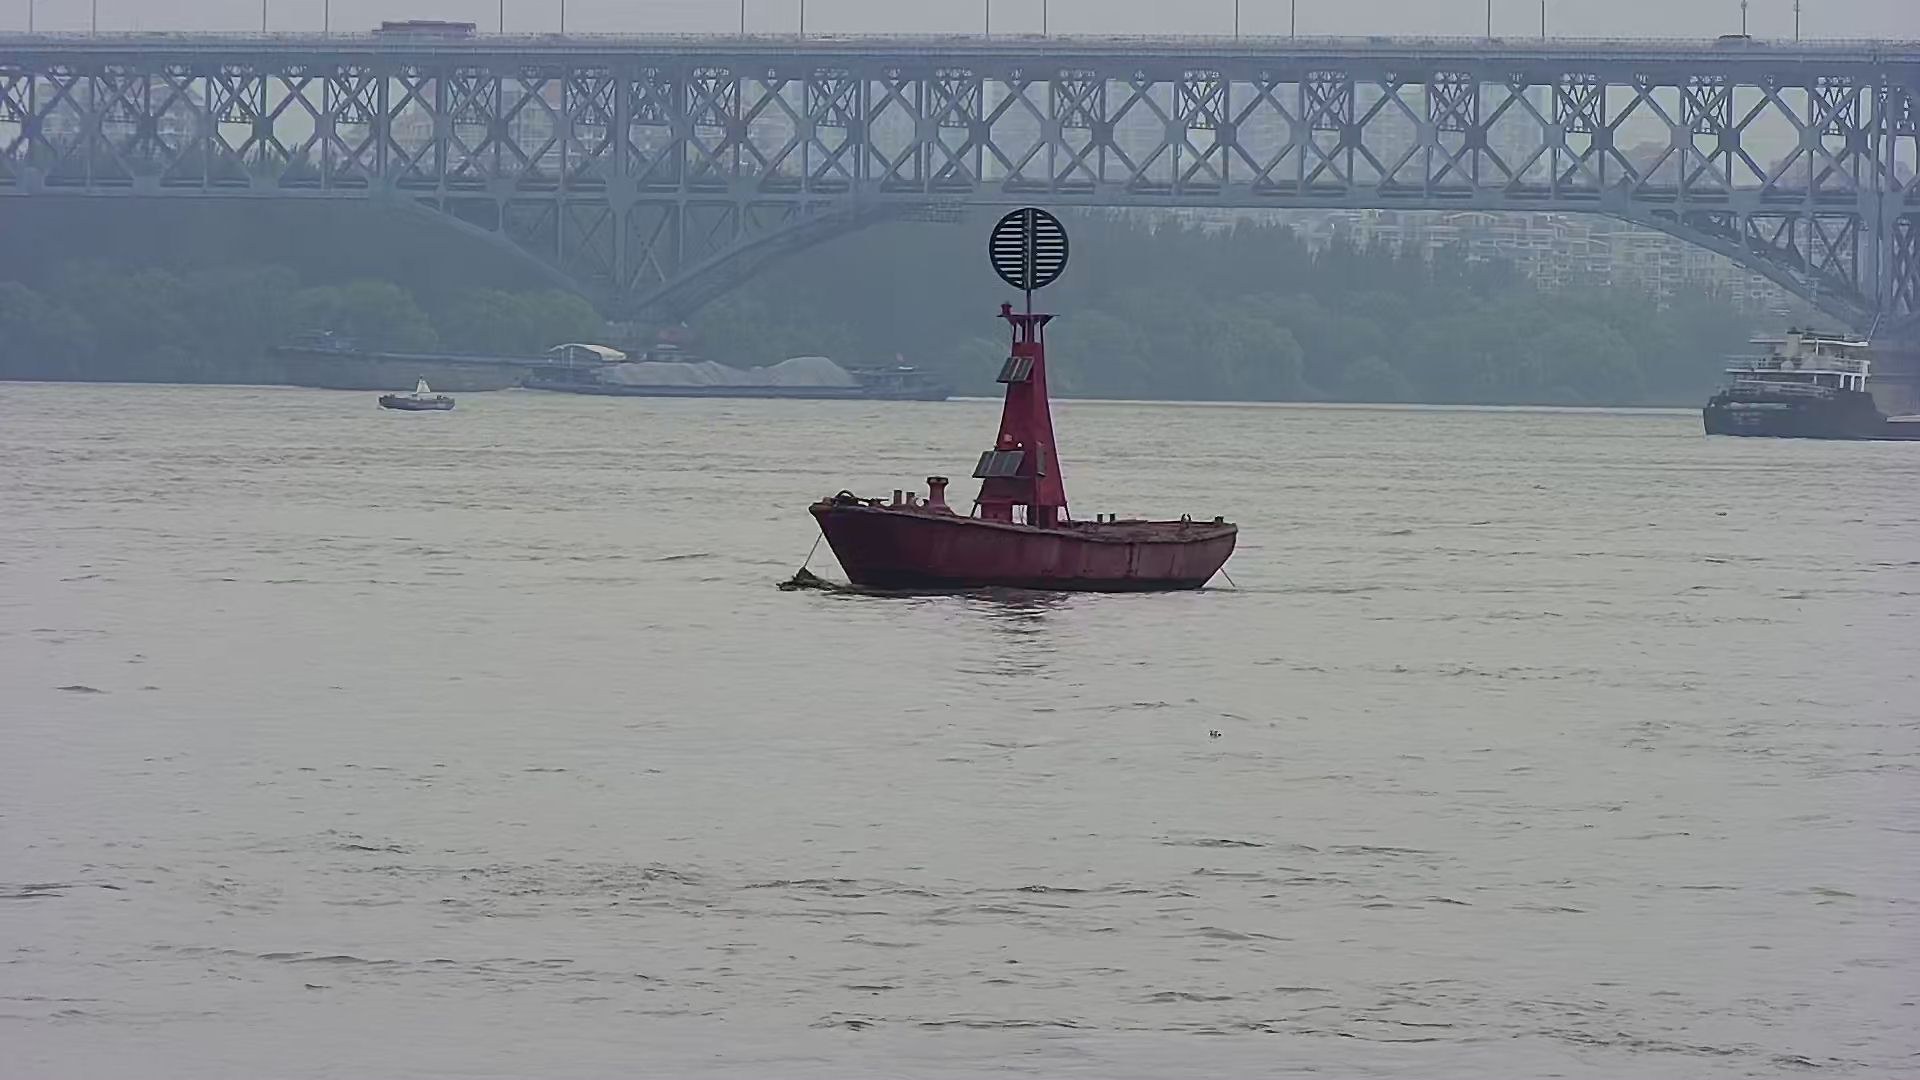boat: (756, 204, 1261, 596), (367, 373, 468, 417)
bridge: (1, 24, 1912, 418)
ship: (1672, 310, 1920, 446), (520, 343, 963, 414)
